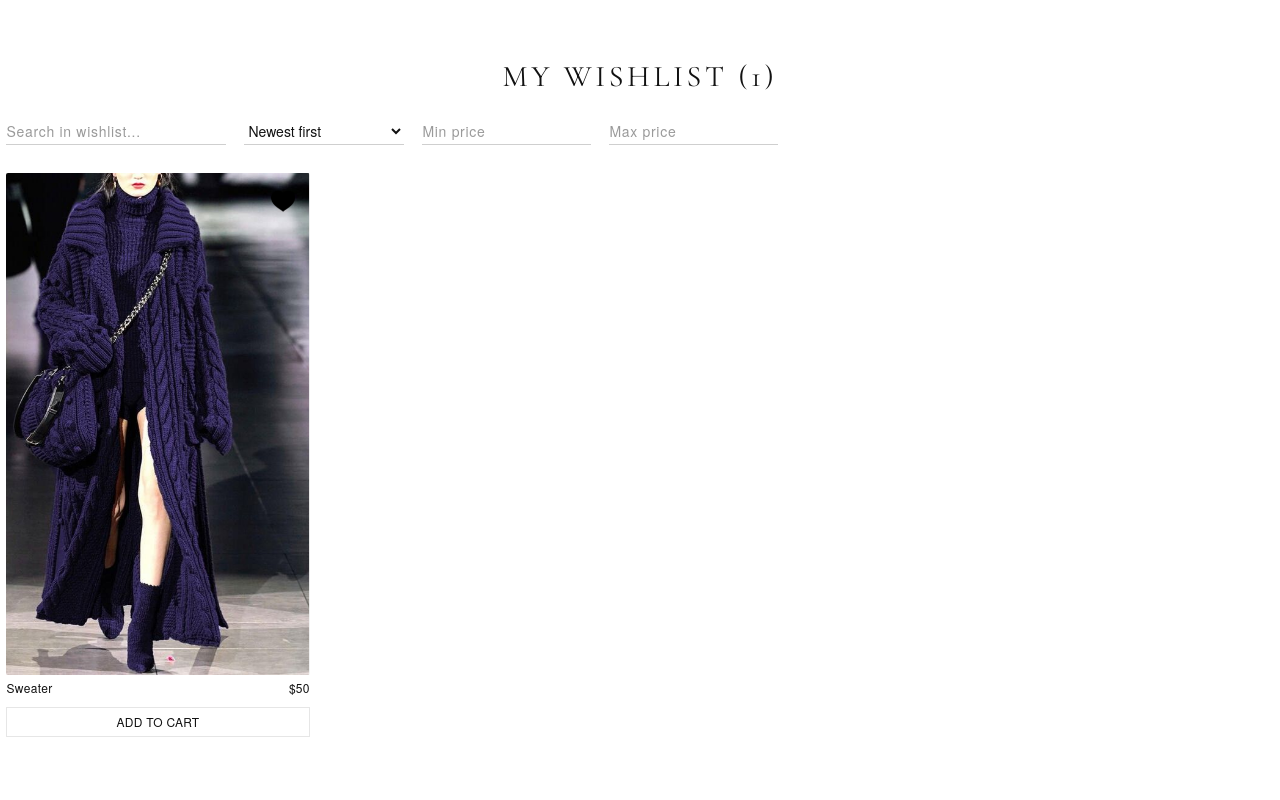
it: WishList - add to cart modal › opens the product modal when ADD TO CART is clicked
Expected: the text "Sweater" is shown, [6,681,53,695]
Click the button "ADD TO CART" at (158, 722), box [6,707,310,737]
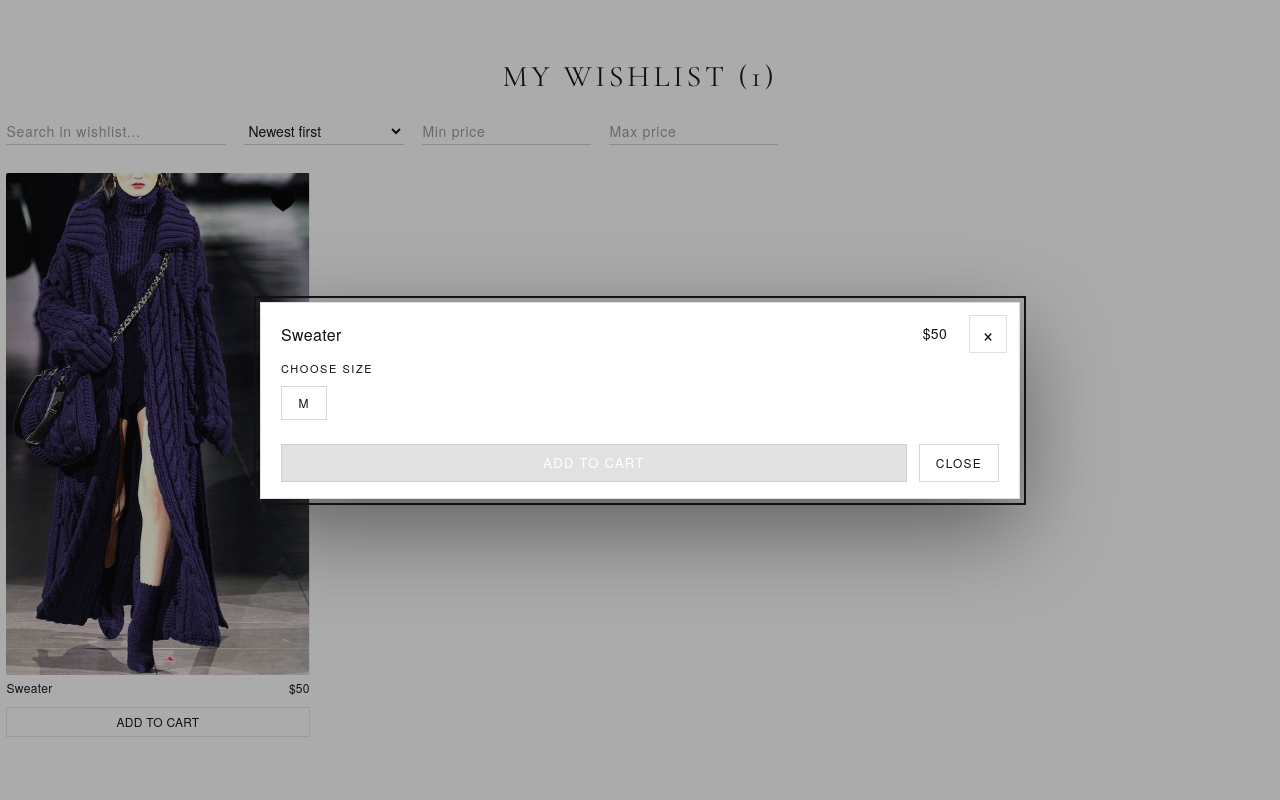
Result: the dialog named "Product options" is shown at [260,302,1020,498]
